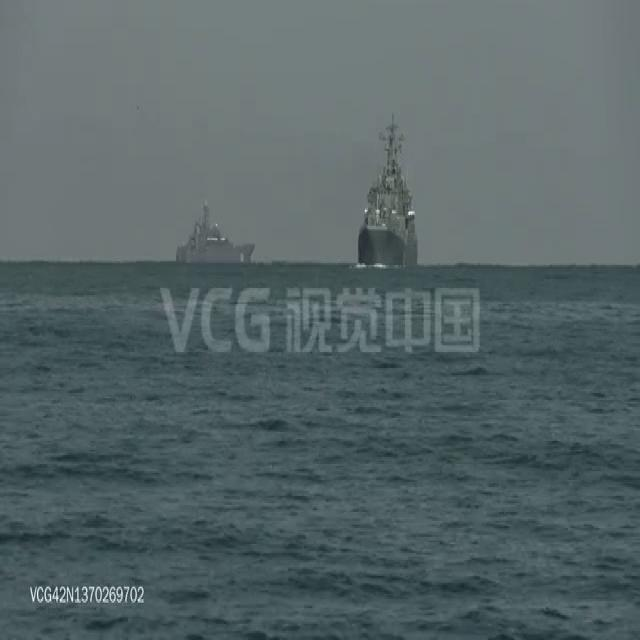navalvessels: (358, 114, 419, 264), (176, 200, 254, 266)
